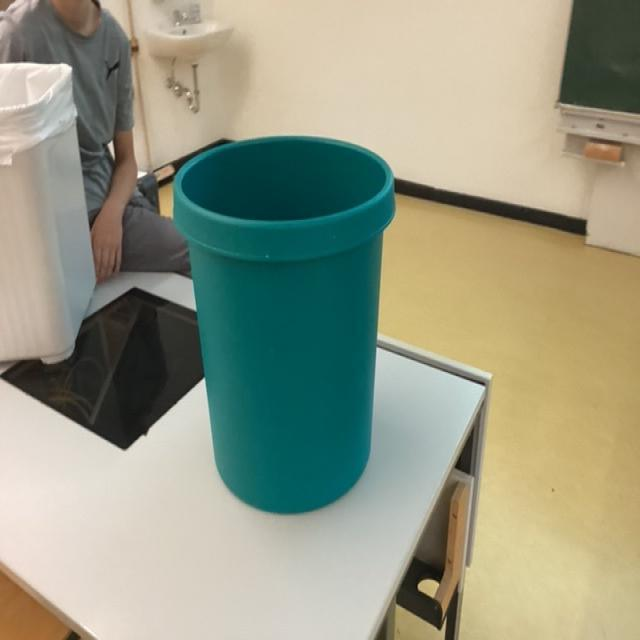garbage container: (167, 78, 451, 560)
